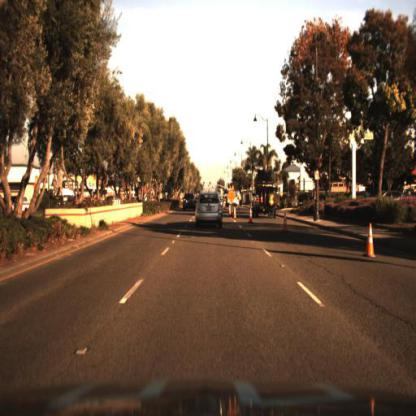car: (250, 173, 281, 223), (195, 191, 224, 229), (184, 196, 197, 215)
pedestrian: (270, 190, 277, 222)
trafficLight: (260, 171, 278, 184)
